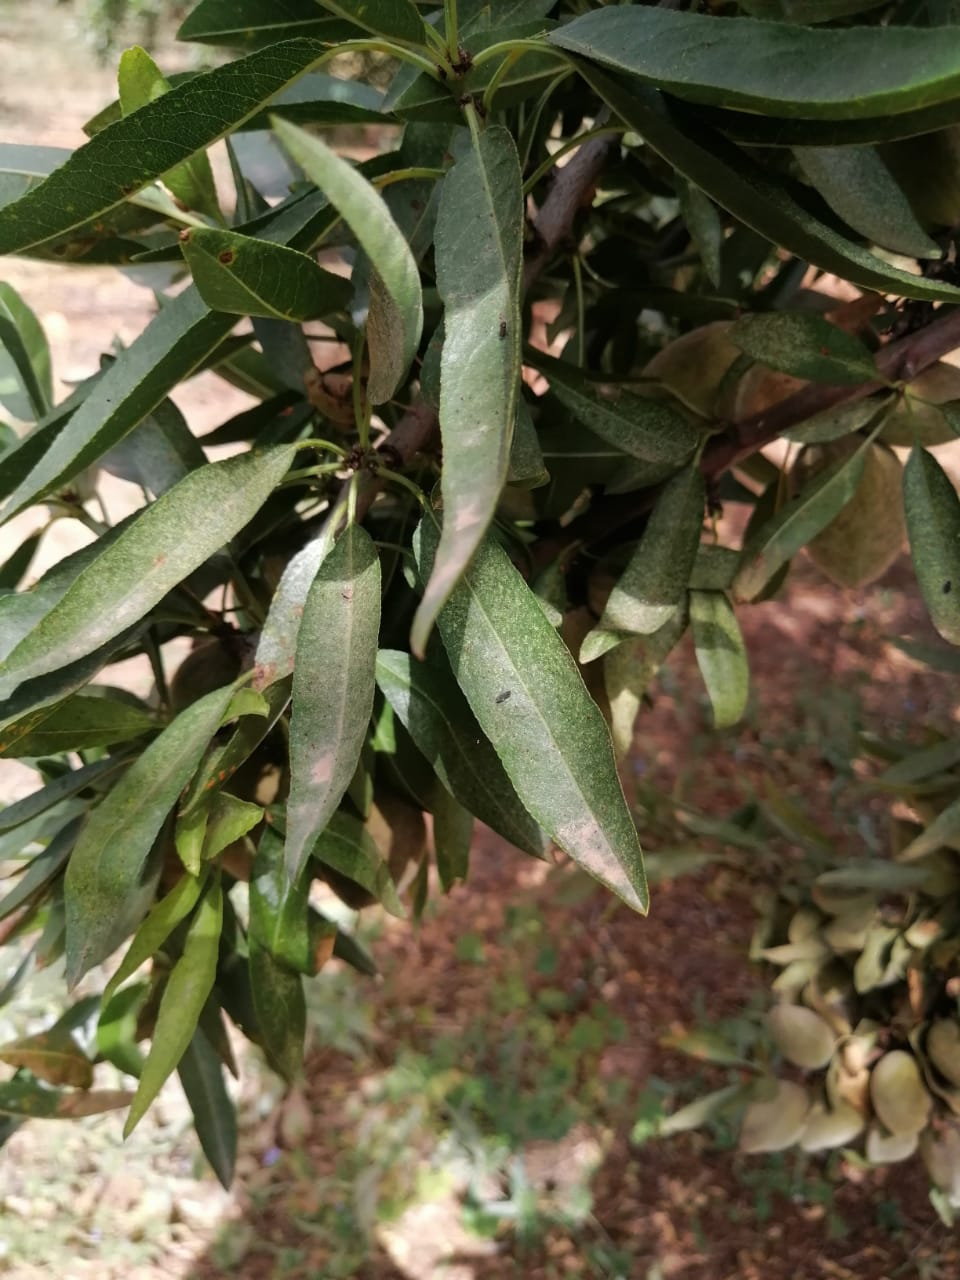acariens: (419, 511, 653, 922), (1, 440, 303, 680), (283, 522, 380, 890)
